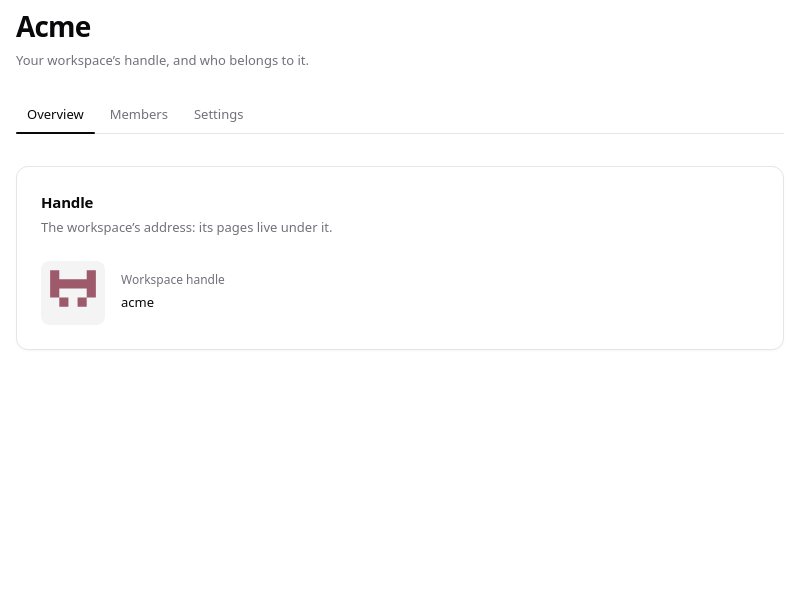
it: members are listed with their handle and role
The width and height of the screenshot is (801, 592).
Press the mouse on the tab "Members" at (139, 114), box x1=99 y1=98 x2=179 y2=130
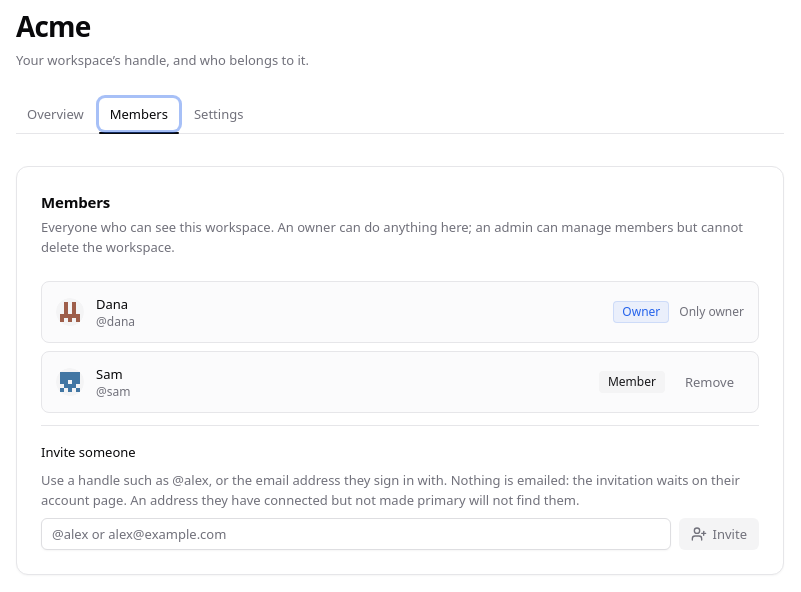
Expected: the text "Dana" is shown, x1=96 y1=295 x2=128 y2=313
Expected: the text "@sam" is shown, x1=96 y1=383 x2=130 y2=400
Expected: the text "owner" is shown, x1=622 y1=304 x2=660 y2=320
